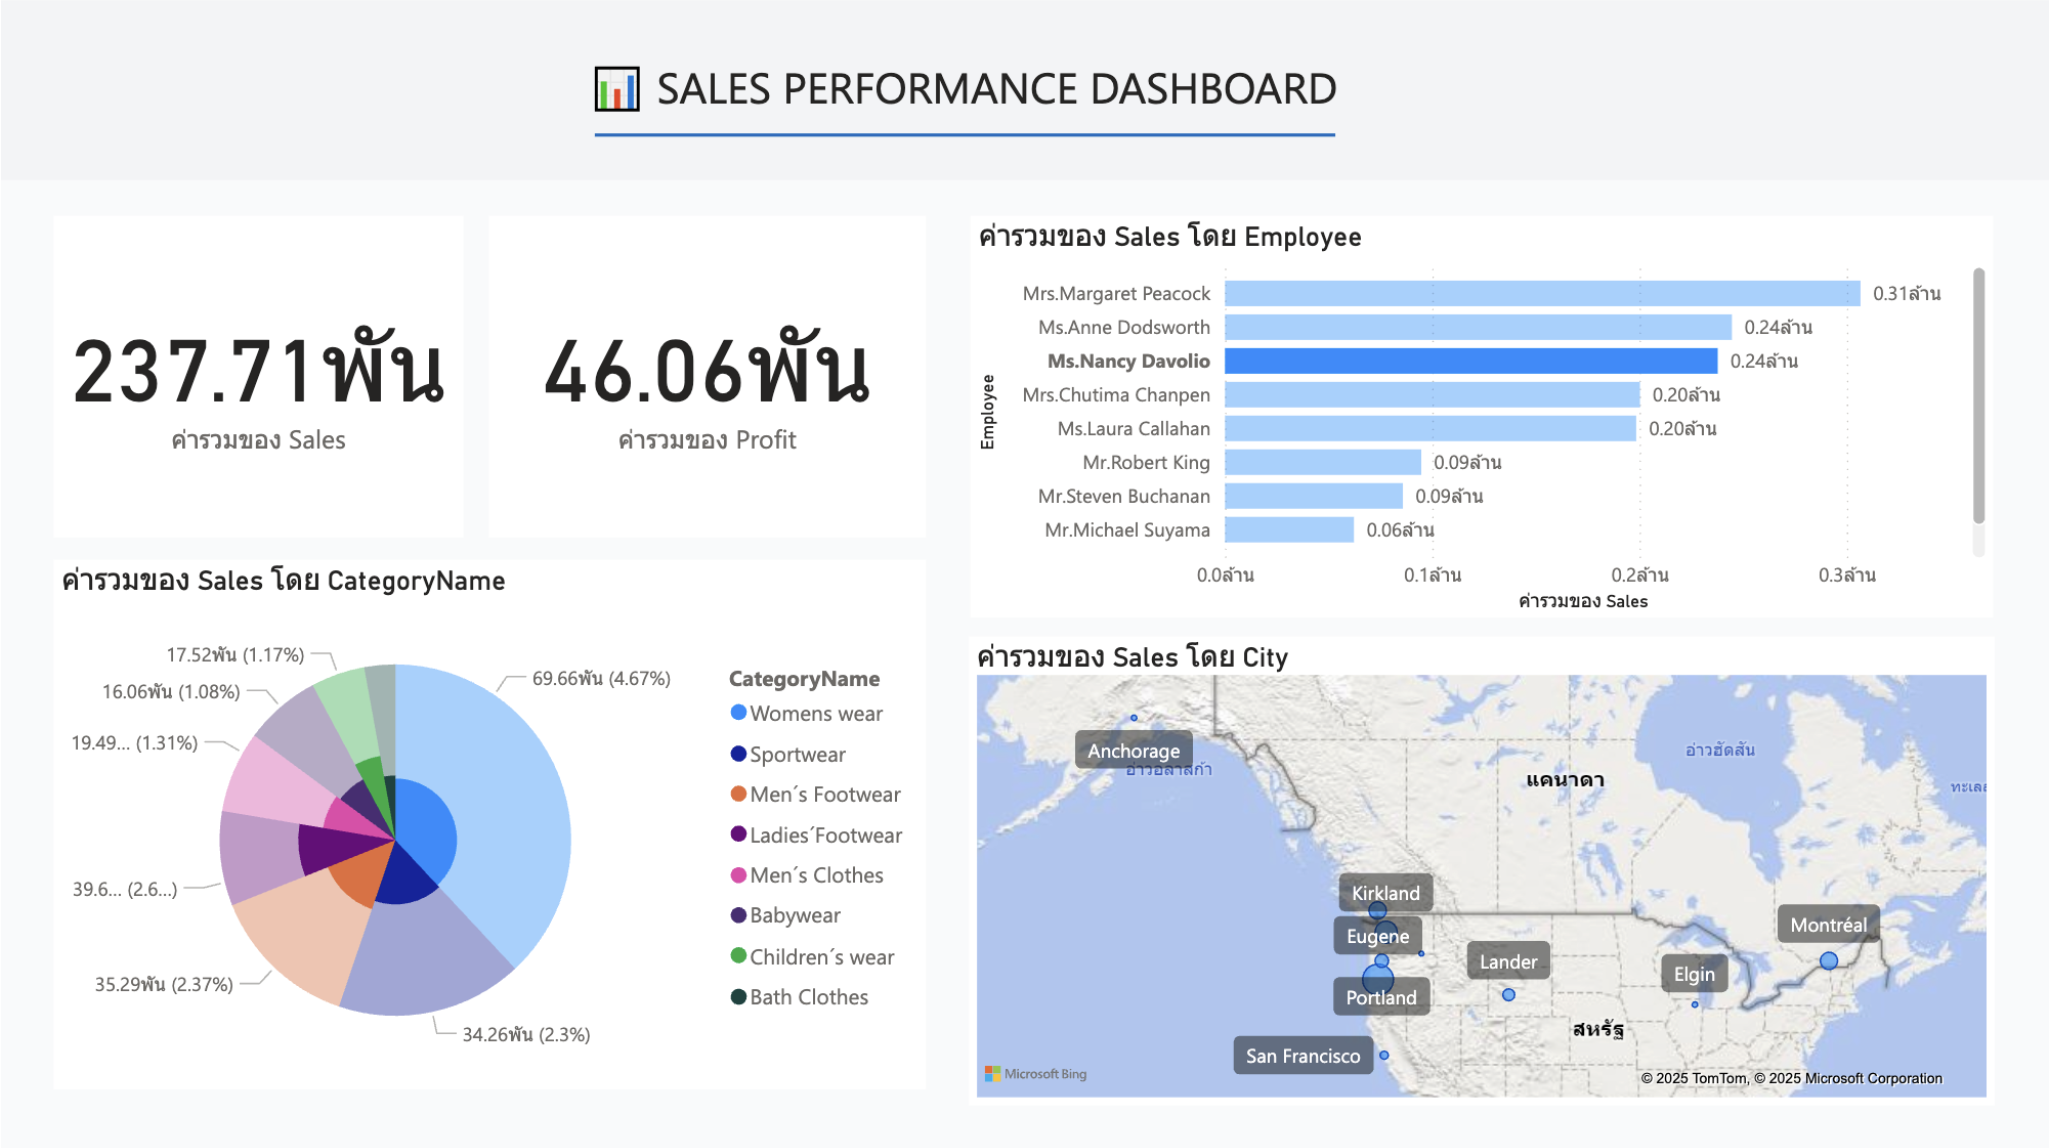

The dashboard page shown, as its layout file describes it:
{"tool":"powerbi","page":{"name":"หน้า 1","canvas":[1280,720],"ordinal":0},"visuals":[{"type":"card","fields":{"Values":["Order Details.Sales"]},"box":[33,135.4,256,201.4],"z":0},{"type":"card","fields":{"Values":["Order Details.Profit"]},"box":[304.9,135.4,273.1,201.4],"z":1000},{"type":"pieChart","fields":{"Category":["Categories.CategoryName"],"Y":["Order Details.Sales"]},"box":[32.8,349.8,545,331.5],"z":2000},{"type":"clusteredBarChart","fields":{"Category":["Employee 6.Employee"],"Y":["Order Details.Sales"]},"box":[605.9,135.1,639.3,251.4],"z":3000},{"type":"map","fields":{"Category":["Customers.Country","Customers.City"],"Size":["Order Details.Sales"]},"box":[605.3,398.3,640.7,293.5],"z":4000},{"type":"shape","box":[0,0,1280,112.6],"z":5000},{"type":"textbox","box":[160.8,30.6,881.2,51.5],"z":6000},{"type":"shape","box":[371.5,0,463.1,168.8],"z":7000}]}

Visuals, with their boxes in screenshot pixels (x1, y1, x2, y2), scaled from the page's 1280x720 canvas onto the 2050x1148 screenshot:
card - Order Details.Sales: {"x1": 53, "y1": 216, "x2": 463, "y2": 537}
card - Order Details.Profit: {"x1": 488, "y1": 216, "x2": 926, "y2": 537}
pieChart - Categories.CategoryName x Order Details.Sales: {"x1": 53, "y1": 558, "x2": 925, "y2": 1086}
clusteredBarChart - Employee 6.Employee x Order Details.Sales: {"x1": 970, "y1": 215, "x2": 1994, "y2": 616}
map - Customers.Country x Customers.City: {"x1": 969, "y1": 635, "x2": 1996, "y2": 1103}
shape: {"x1": 0, "y1": 0, "x2": 2049, "y2": 180}
textbox: {"x1": 258, "y1": 49, "x2": 1669, "y2": 131}
shape: {"x1": 595, "y1": 0, "x2": 1337, "y2": 269}
